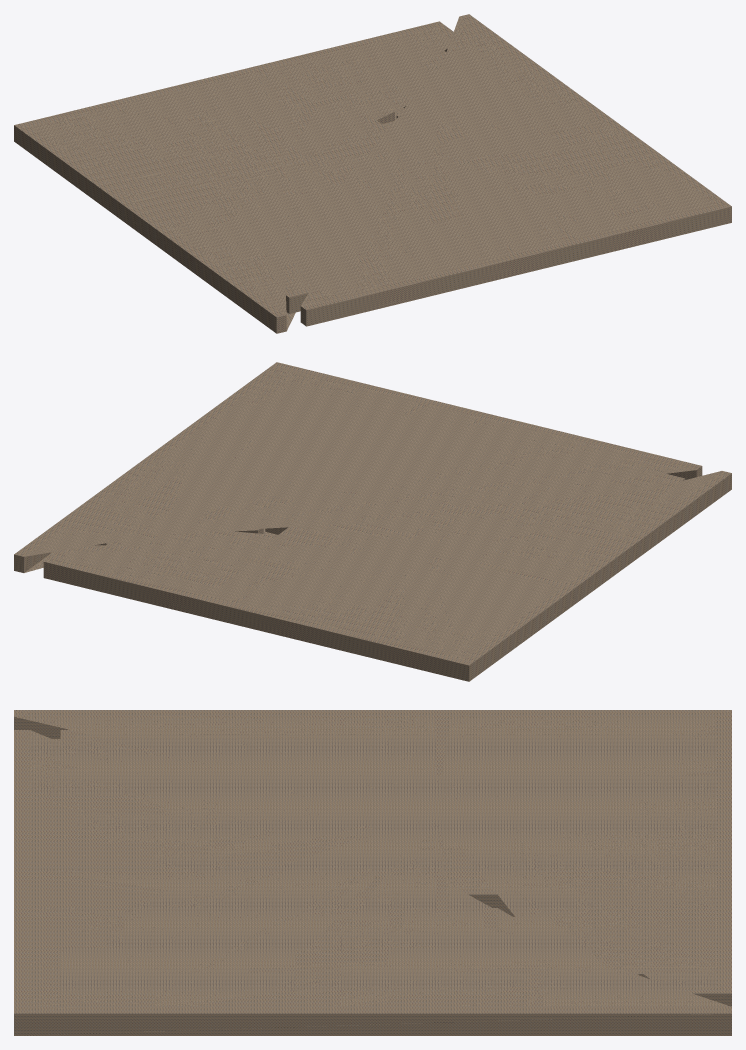
File: maze2.obj
3 views of the same model, one above another, from view 1: azimuth 30°, elevation 25°; view 2: azimuth 150°, elevation 25°; view 3: azimuth 270°, elevation 25° (orthographic). The views are drawn at different scales.
Parts seen in each view (by area): view 1: Mesh2 Model, Mesh1 Model; view 2: Mesh2 Model, Mesh1 Model; view 3: Mesh2 Model, Mesh1 Model.
Part boxes in pixels (x1,y1,x2,y2): Mesh2 Model: [14, 21, 633, 333]; Mesh1 Model: [260, 14, 731, 326]; Mesh2 Model: [43, 404, 731, 681]; Mesh1 Model: [14, 362, 702, 587]; Mesh2 Model: [14, 710, 731, 1006]; Mesh1 Model: [14, 730, 731, 1035].
Bounding box in the file's own units: 5508 × 189 × 5508.
